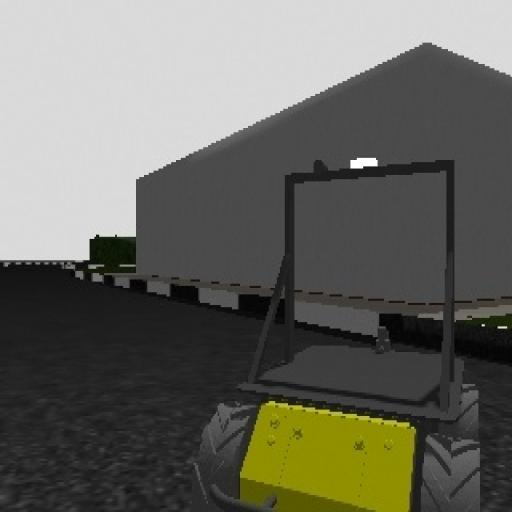huskya200: (195, 153, 490, 510)
